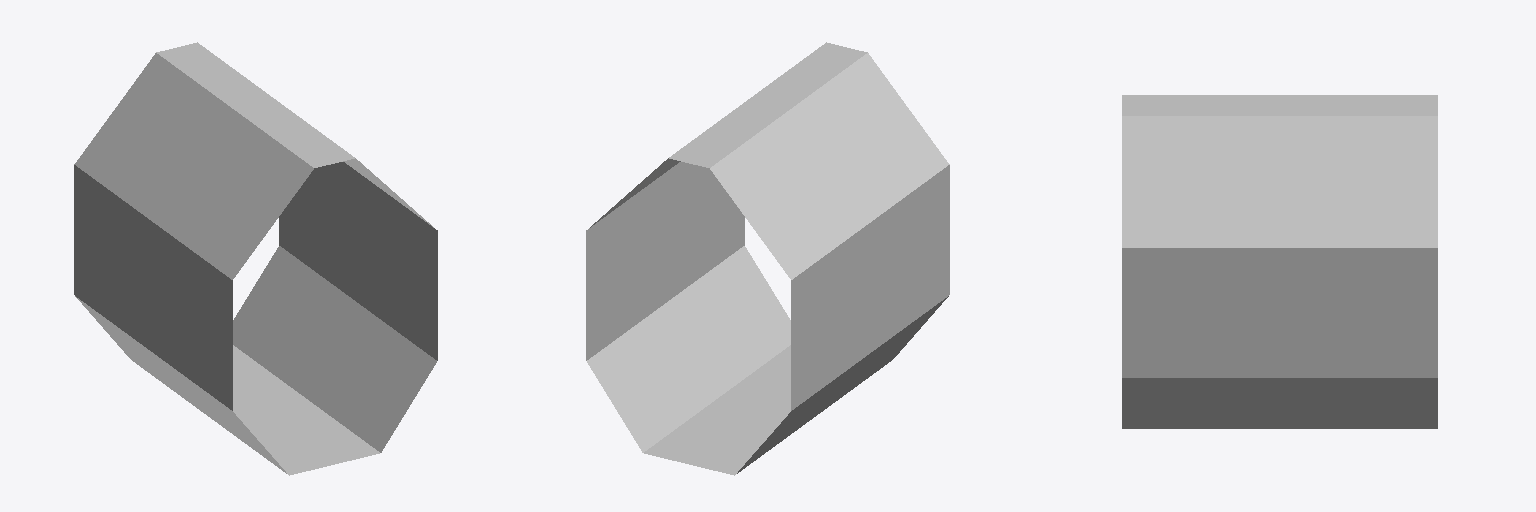
The model's file is gungame5.obj.
3 renders of one model, left to right at view 1: azimuth 30°, elevation 25°; view 2: azimuth 150°, elevation 25°; view 3: azimuth 270°, elevation 25°, orthographic.
Visible parts, largest first — view 1: Plane_Plane.001; view 2: Plane_Plane.001; view 3: Plane_Plane.001.
Part boxes in pixels (x1,y1,x2,y2): Plane_Plane.001: (74, 42, 437, 475); Plane_Plane.001: (586, 42, 949, 475); Plane_Plane.001: (1122, 95, 1437, 428).
Size of the model in its own units: 4.46 by 6.26 by 5.97.